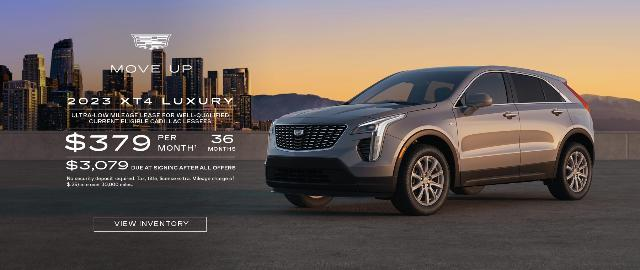cadillac: (264, 65, 596, 215)
